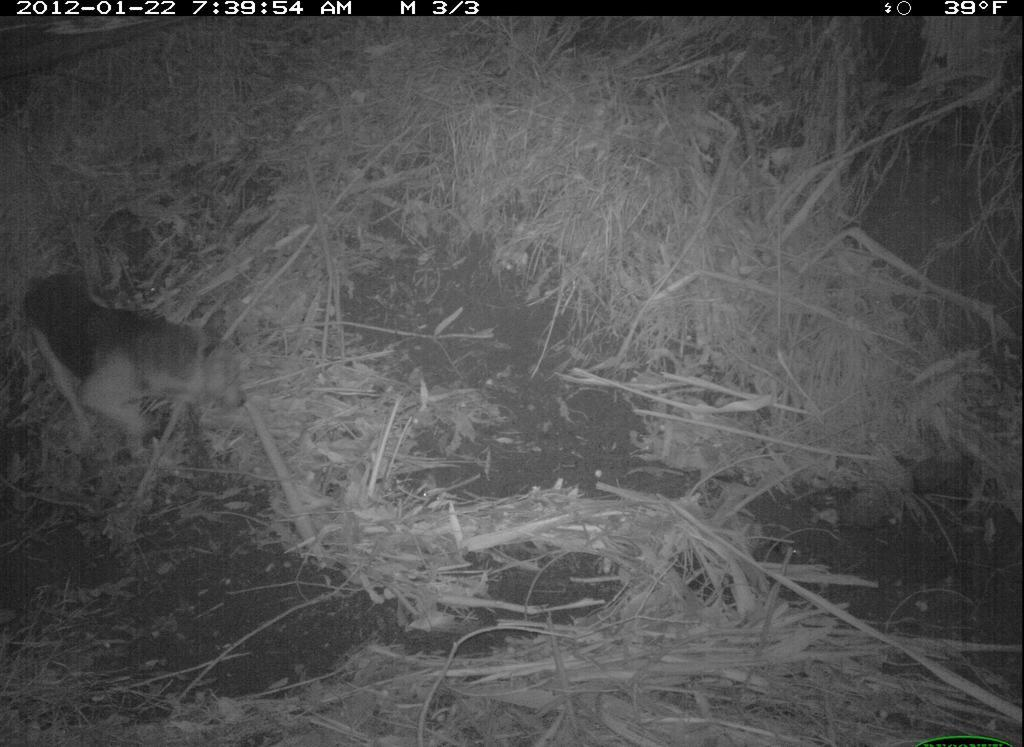dog: (17, 265, 277, 478)
